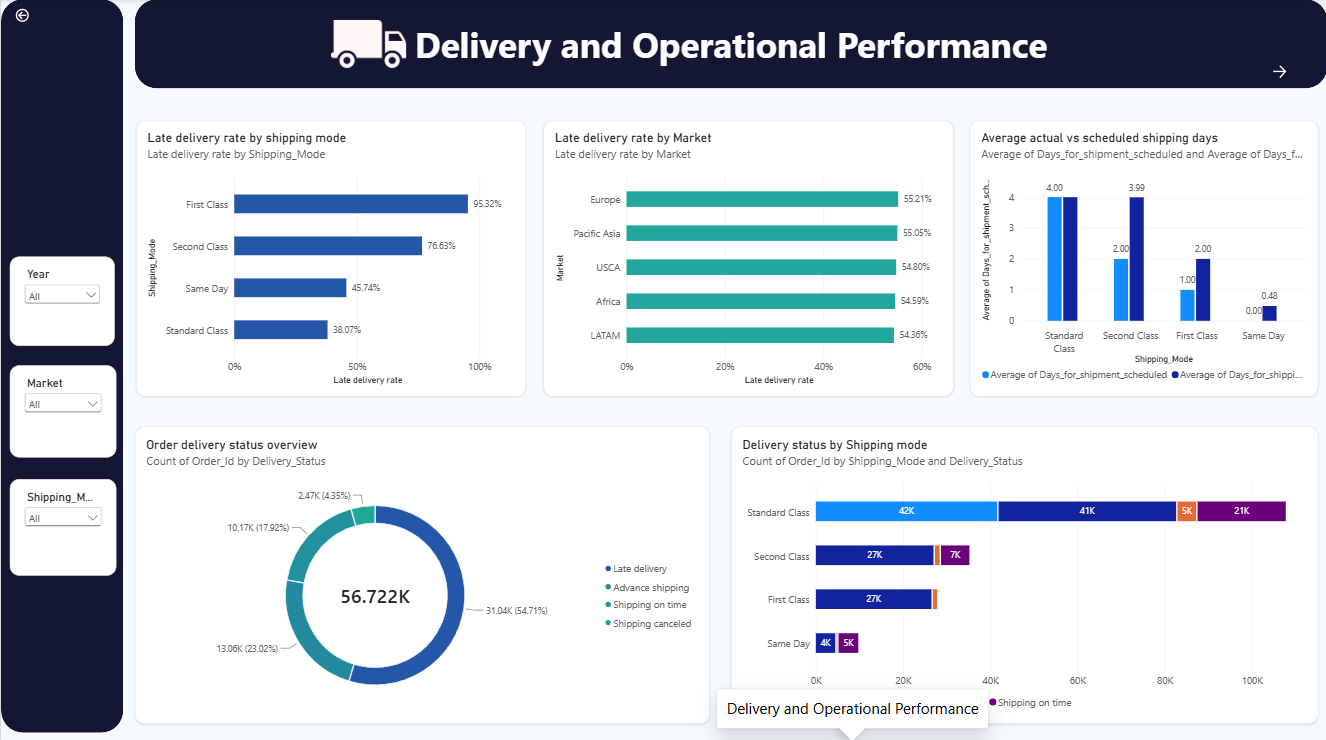

The dashboard page shown, as its layout file describes it:
{"tool":"powerbi","page":{"name":"Delivery and Operational Performance","canvas":[1920,1080],"ordinal":4},"visuals":[{"type":"clusteredBarChart","title":"Late delivery rate by Market","fields":{"Category":["dataco_data.Market"],"Y":["dataco_data.Late delivery rate"]},"box":[785.4,175.5,593.6,399.9],"z":0},{"type":"clusteredColumnChart","title":"Average actual vs scheduled shipping days","fields":{"Category":["dataco_data.Shipping_Mode"],"Y":["Avg(dataco_data.Days_for_shipment_scheduled)","Avg(dataco_data.Days_for_shipping_real)"]},"box":[1402.5,175.5,504.9,399.9],"z":1000},{"type":"shape","box":[193.5,0,1726.9,129.7],"z":2000},{"type":"shape","box":[0,0,177,1062.1],"z":3000},{"type":"slicer","fields":{"Values":["dataco_data.order_date_DateOrders.Variation.Date Hierarchy.Year"]},"box":[12.3,372.6,152.3,129.7],"z":4000},{"type":"slicer","fields":{"Values":["dataco_data.Market"]},"box":[12.3,531,154.4,133.8],"z":5000},{"type":"slicer","fields":{"Values":["dataco_data.Shipping_Mode"]},"box":[12.3,695.7,154.4,140],"z":6000},{"type":"donutChart","title":"Order delivery status overview","fields":{"Category":["dataco_data.Delivery_Status"],"Y":["Count(dataco_data.Order_Id)"]},"box":[193.6,618.9,832.4,430.7],"z":7000},{"type":"clusteredBarChart","title":"Late delivery rate by shipping mode","fields":{"Category":["dataco_data.Shipping_Mode"],"Y":["dataco_data.Late delivery rate"]},"box":[195.4,175.5,564.6,399.9],"z":8000},{"type":"barChart","title":"Delivery status by Shipping mode","fields":{"Category":["dataco_data.Shipping_Mode"],"Series":["dataco_data.Delivery_Status"],"Y":["CountNonNull(dataco_data.Order_Id)"]},"box":[1056.8,618.9,850.5,430.7],"z":9000},{"type":"image","box":[477.8,27.1,108.6,76],"z":10000},{"type":"actionButton","box":[1800.6,85.1,100,40],"z":10001},{"type":"actionButton","box":[0,0,61.5,47.1],"z":10002}]}

Visuals, with their boxes on the page's 1920x1080 design canvas (x1, y1, x2, y2). These are canvas units, not pixel positions in the 1326x740 screenshot, which may show the page scaled, cropped or inside an application window:
"Late delivery rate by Market" clusteredBarChart: locate(785, 176, 1379, 575)
"Average actual vs scheduled shipping days" clusteredColumnChart: locate(1402, 176, 1907, 575)
shape: locate(194, 0, 1920, 130)
shape: locate(0, 0, 177, 1062)
slicer - dataco_data.order_date_DateOrders.Variation.Date Hierarchy.Year: locate(12, 373, 165, 502)
slicer - dataco_data.Market: locate(12, 531, 167, 665)
slicer - dataco_data.Shipping_Mode: locate(12, 696, 167, 836)
"Order delivery status overview" donutChart: locate(194, 619, 1026, 1050)
"Late delivery rate by shipping mode" clusteredBarChart: locate(195, 176, 760, 575)
"Delivery status by Shipping mode" barChart: locate(1057, 619, 1907, 1050)
image: locate(478, 27, 586, 103)
actionButton: locate(1801, 85, 1901, 125)
actionButton: locate(0, 0, 62, 47)
